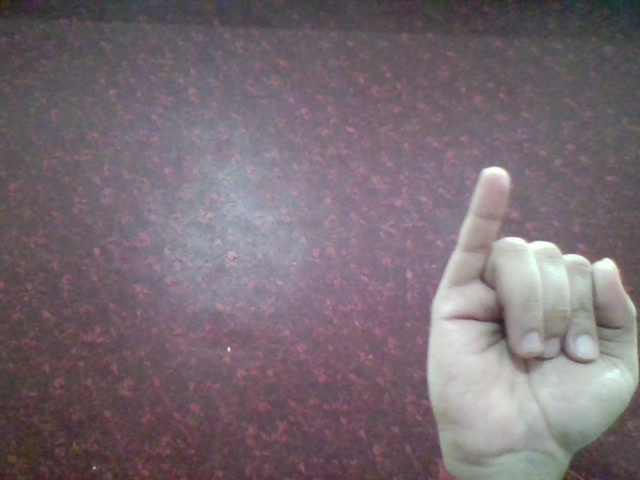i: (415, 157, 640, 473)
